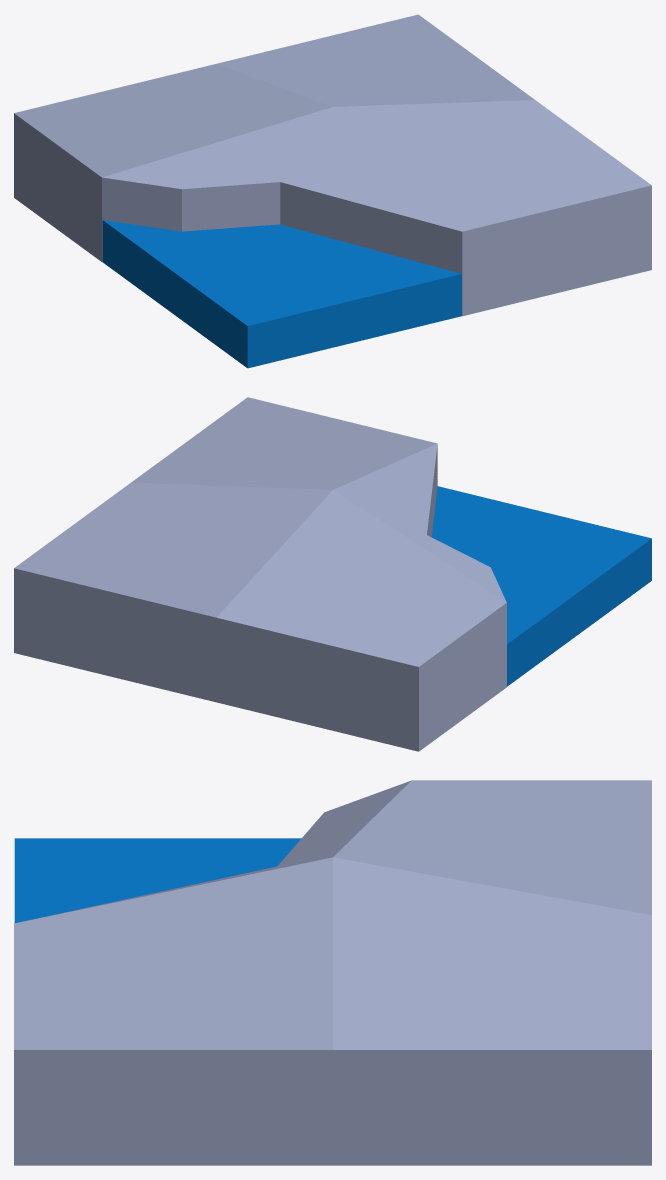
File: BrockenIceLand_C.fbx
The picture shows the model from 3 angles, top to bottom: view 1: azimuth 30°, elevation 25°; view 2: azimuth 150°, elevation 25°; view 3: azimuth 270°, elevation 25°; orthographic projection. The views are drawn at different scales.
Parts seen in each view (by area): view 1: Cube, Cube.005; view 2: Cube, Cube.005; view 3: Cube, Cube.005.
Boxes of the visible parts, x1,y1,x2,y2 form: Cube: (14, 14, 651, 316); Cube.005: (102, 220, 461, 368); Cube: (14, 397, 506, 751); Cube.005: (431, 486, 651, 686); Cube: (14, 780, 651, 1165); Cube.005: (14, 838, 301, 923).
Bounding box in the file's own units: 500 × 150 × 500.
